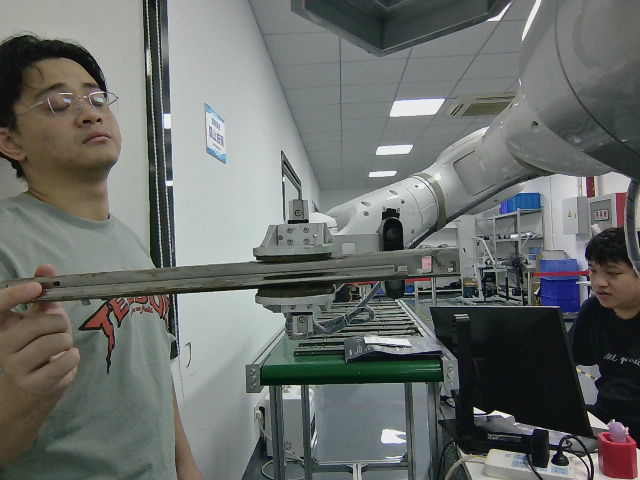down: (39, 246, 462, 306)
